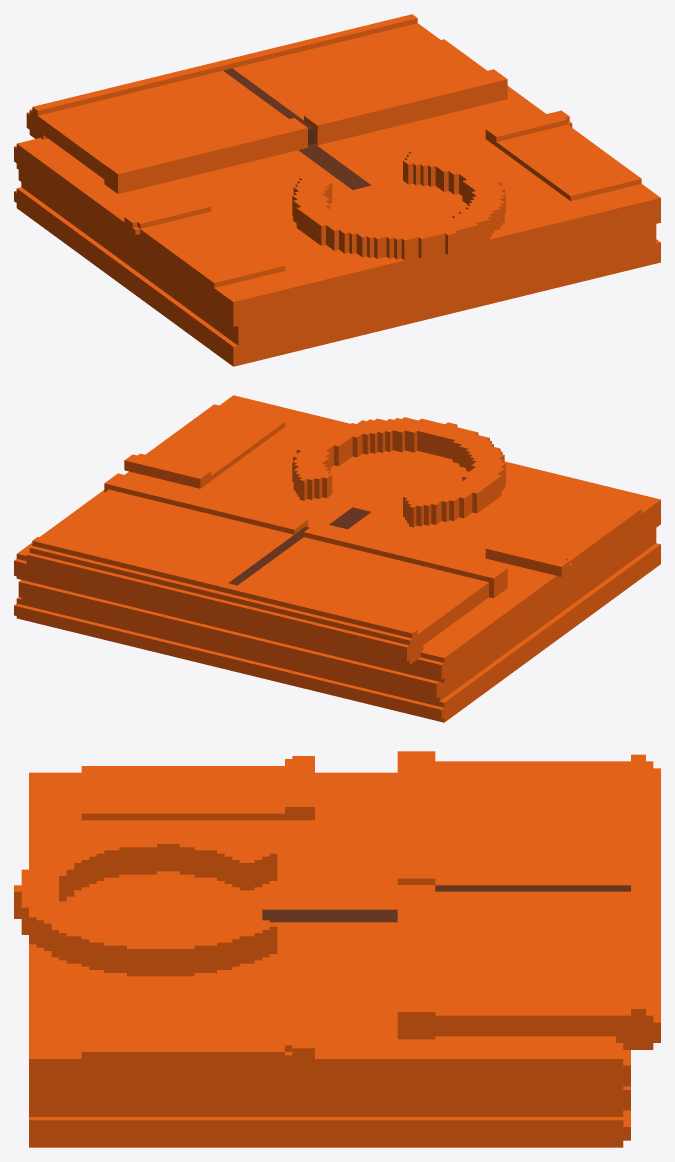
Rendered from jumpsuit_pocketless.glb.
3 renders of one model, top to bottom at view 1: azimuth 30°, elevation 25°; view 2: azimuth 150°, elevation 25°; view 3: azimuth 270°, elevation 25°, orthographic. The views are drawn at different scales.
Visible parts, largest first — view 1: jumpsuit_pocketless:compound; view 2: jumpsuit_pocketless:compound; view 3: jumpsuit_pocketless:compound.
Part boxes in pixels (left/top/right/bottom): jumpsuit_pocketless:compound: left=14, top=14, right=660, bottom=366; jumpsuit_pocketless:compound: left=14, top=395, right=660, bottom=722; jumpsuit_pocketless:compound: left=14, top=751, right=660, bottom=1147.
Bounding box in the file's own units: 0.368 × 0.072 × 0.344.
